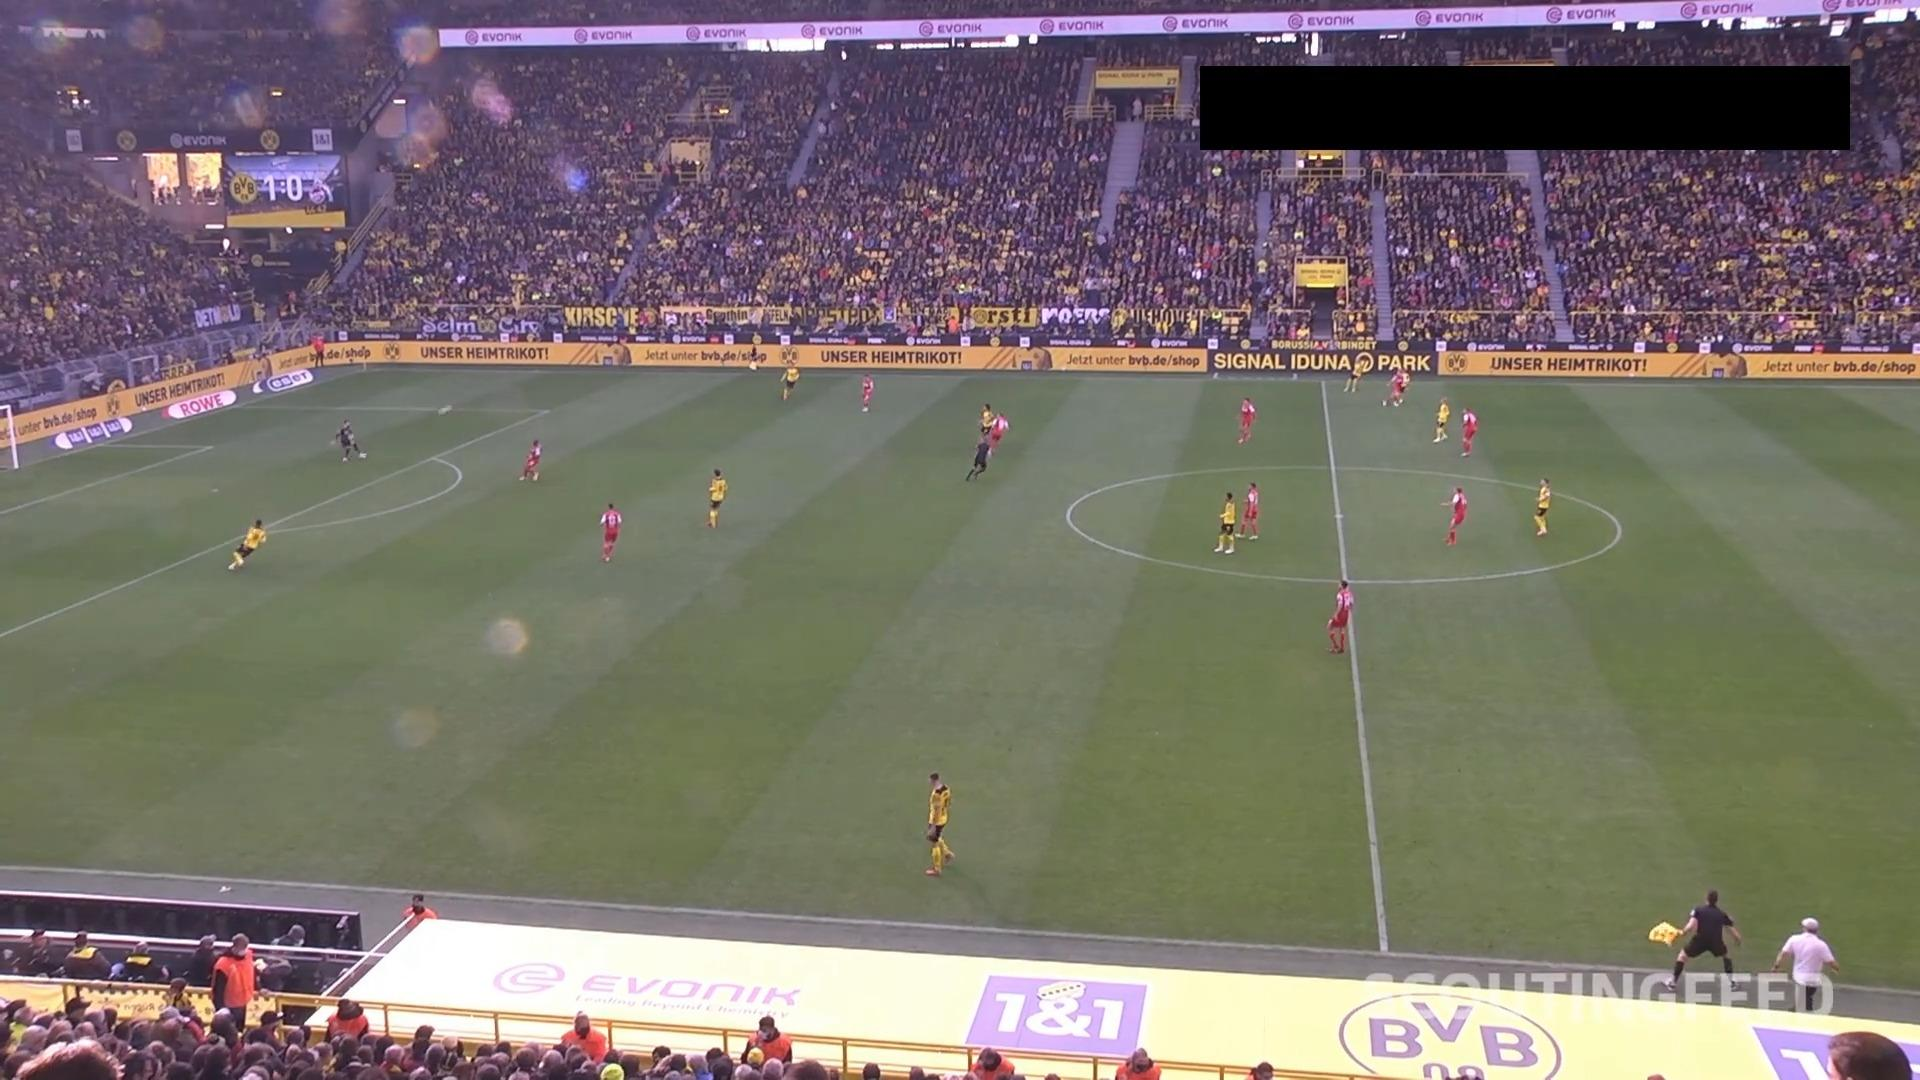ball: (435, 401, 454, 418)
